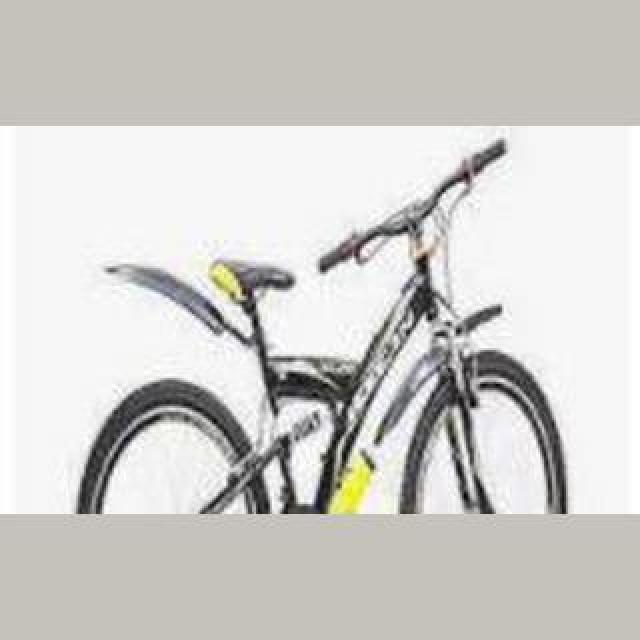Person: (71, 140, 573, 514)
